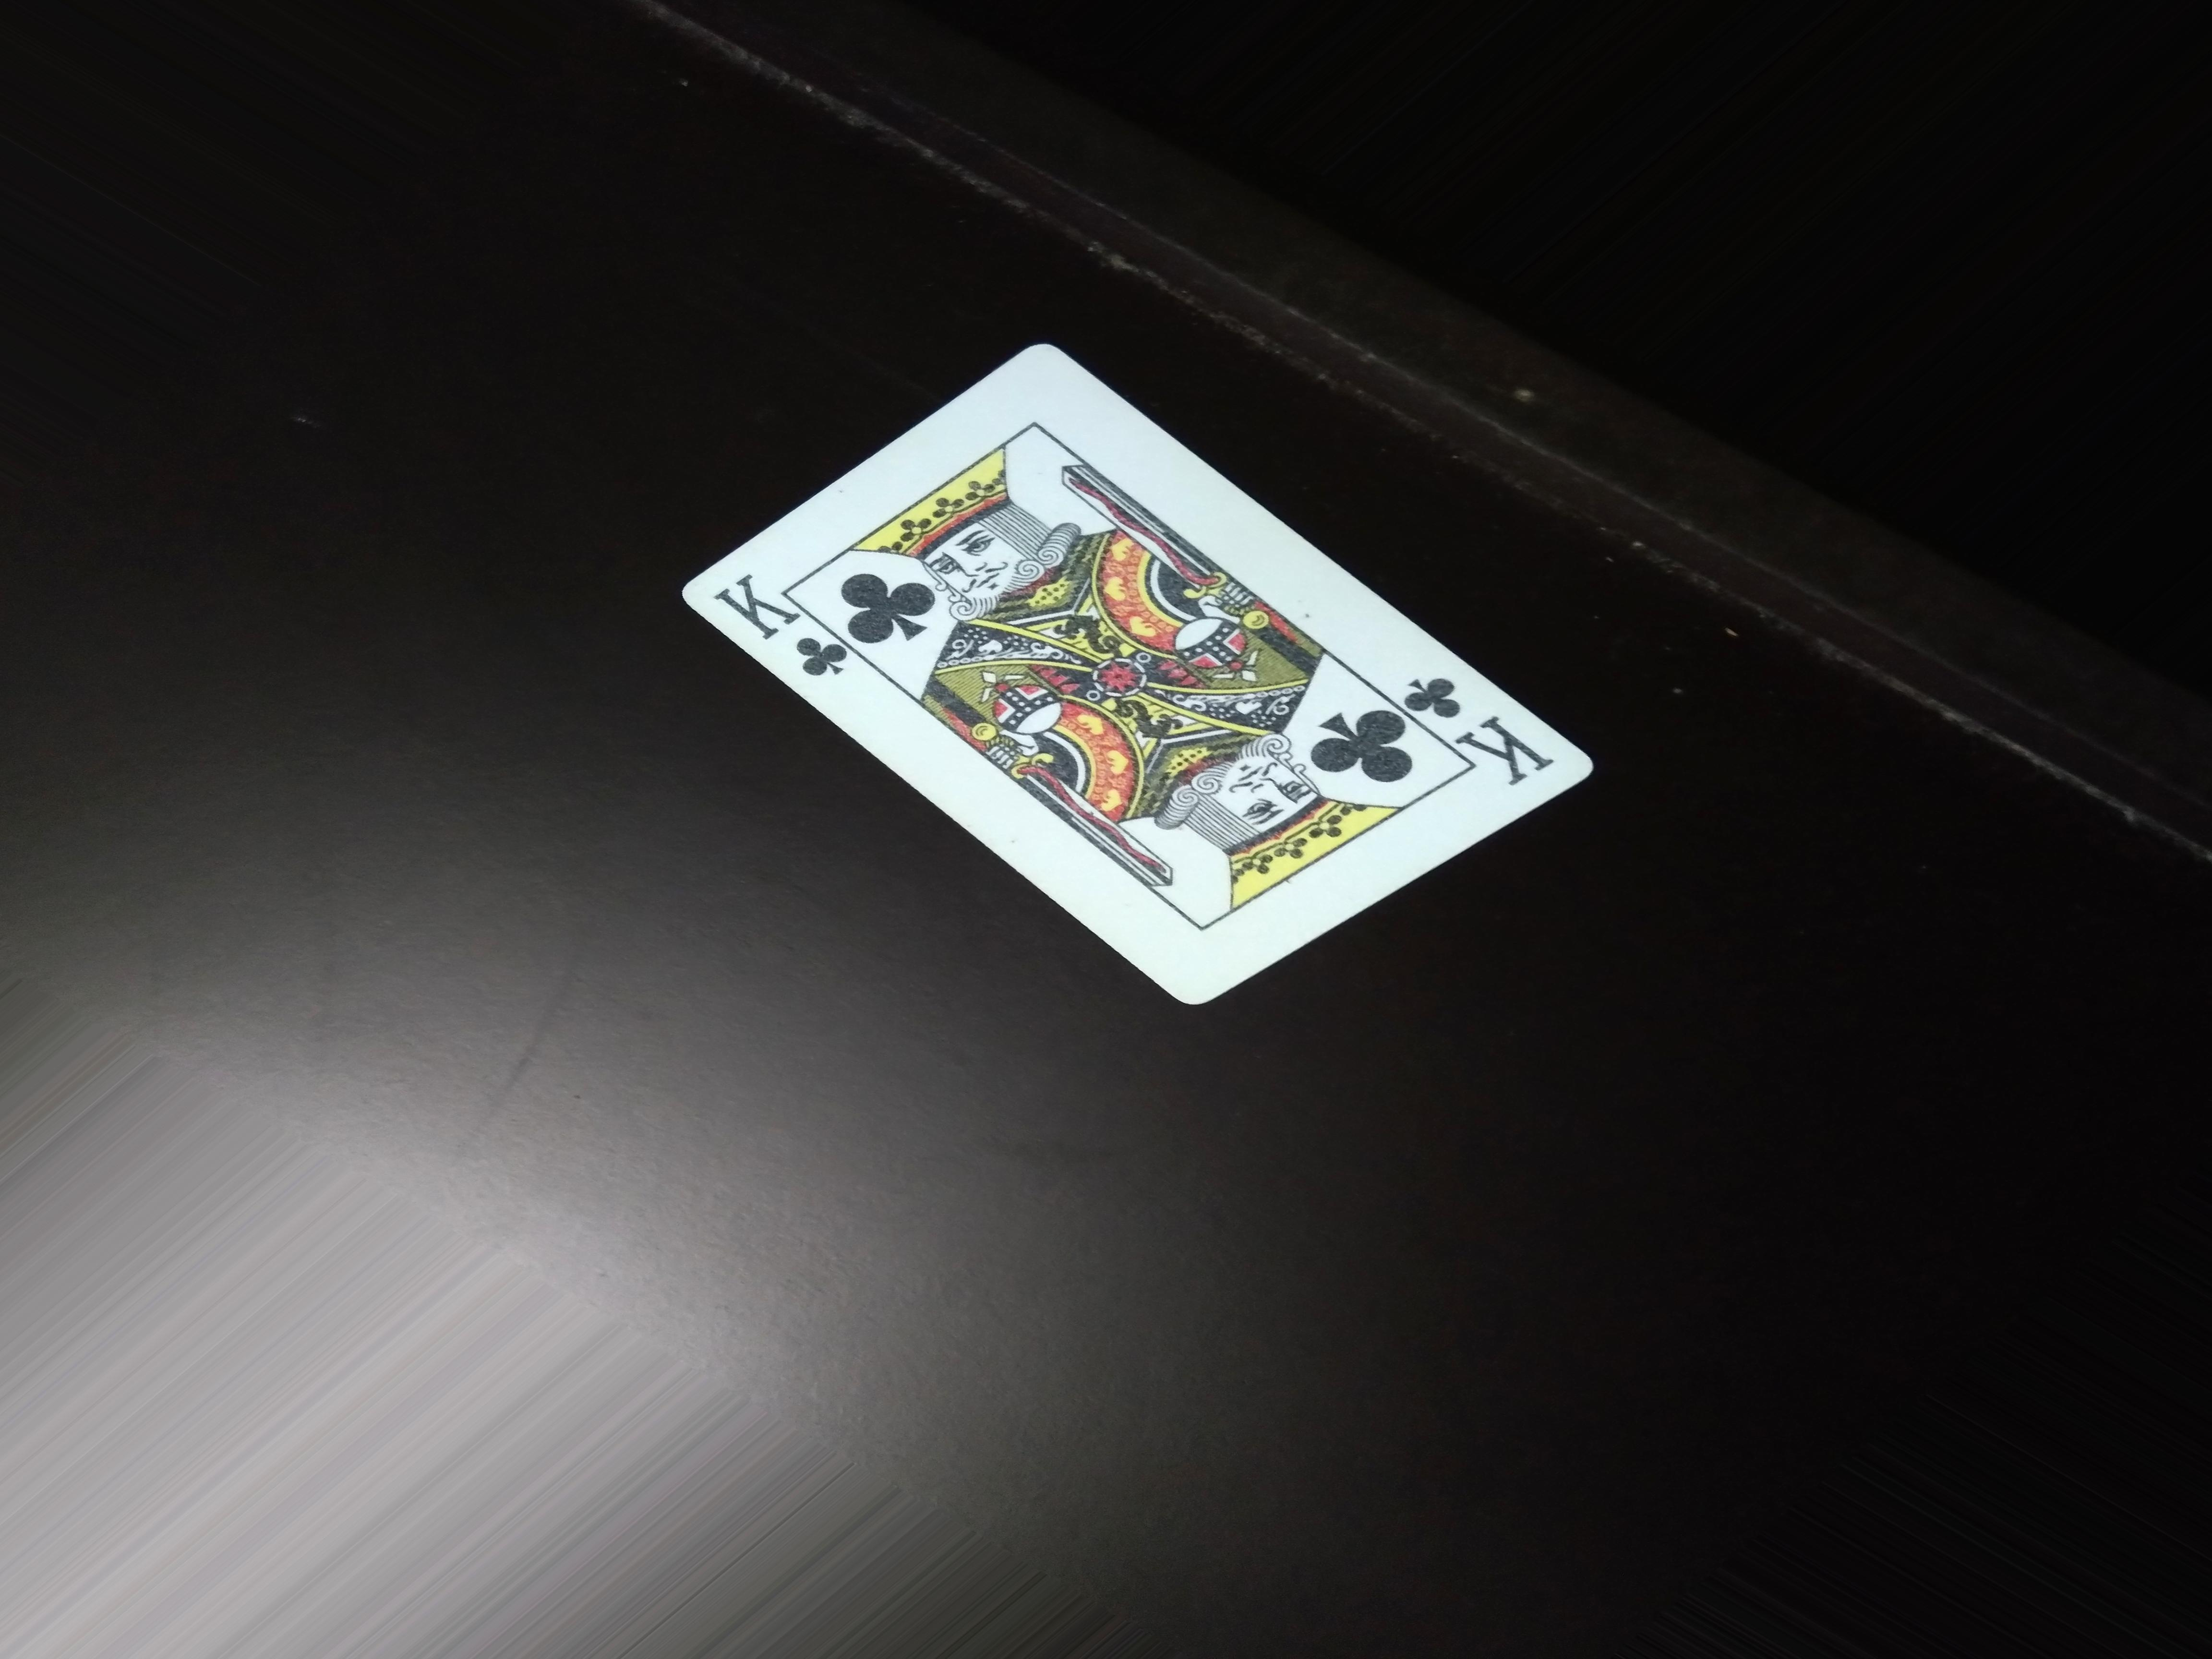KC: (705, 575, 836, 687)
